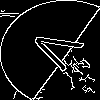V: (25, 25, 95, 77)
